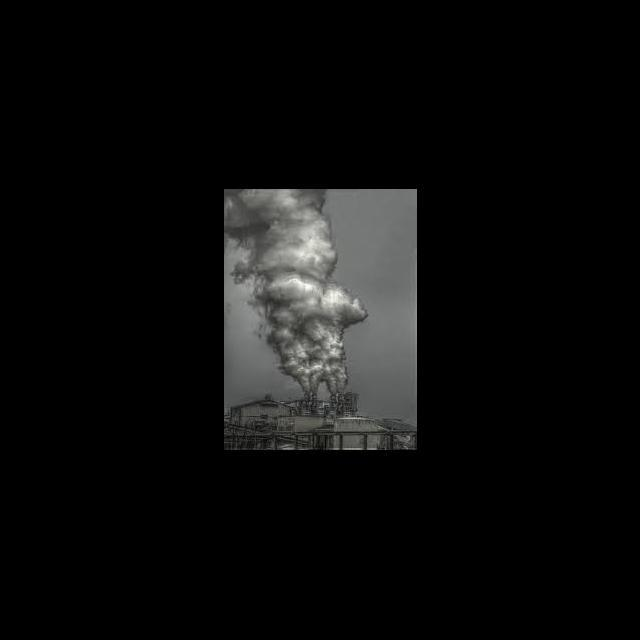Smoke: (252, 192, 322, 290), (279, 297, 343, 365)
